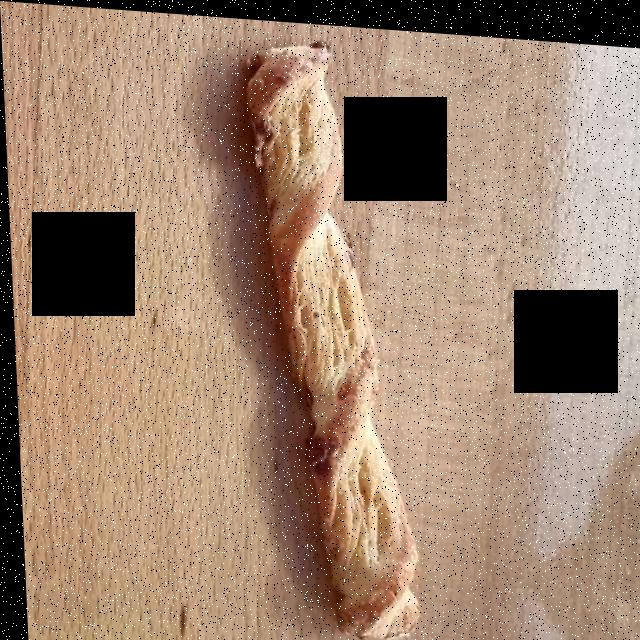savoury-puff-pastry-stick: (252, 48, 413, 625)
